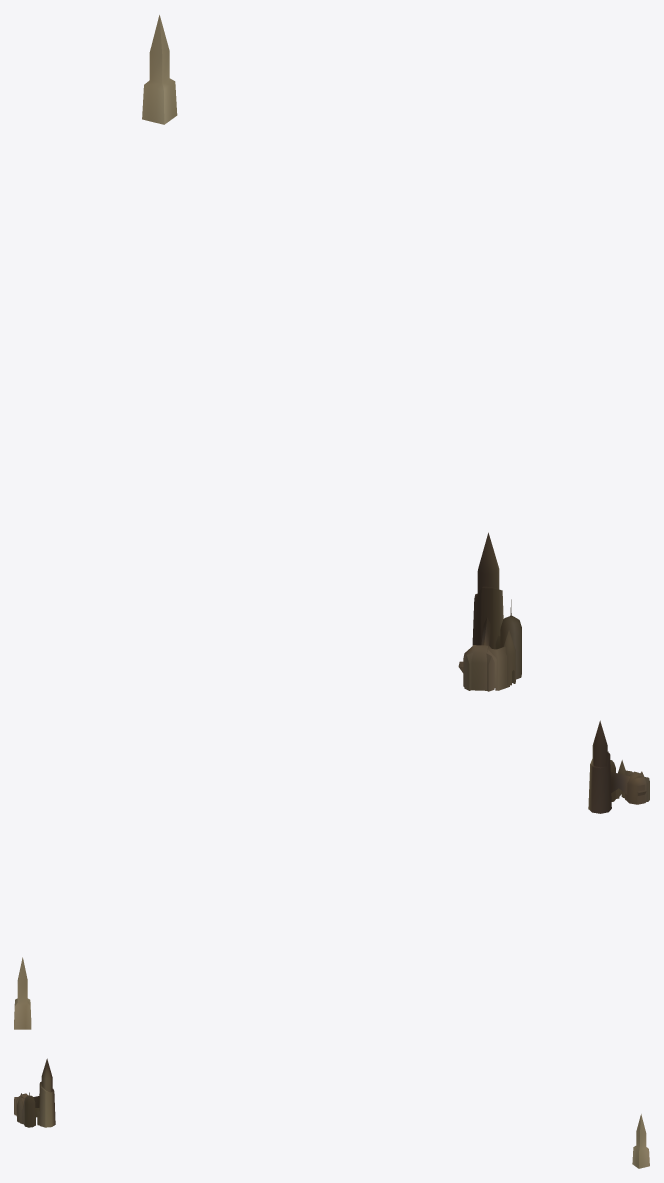
The model's file is tile_-3_1.glb.
3 views of the same model, one above another, from view 1: azimuth 30°, elevation 25°; view 2: azimuth 150°, elevation 25°; view 3: azimuth 270°, elevation 25° (orthographic). The views are drawn at different scales.
Parts seen in each view (by area): view 1: mesh[9].001; view 2: mesh[9].001; view 3: mesh[9].001.
Part boxes in pixels (<box>): mesh[9].001: <box>142,15,521,691</box>; mesh[9].001: <box>14,720,649,1029</box>; mesh[9].001: <box>14,1058,649,1168</box>.
Size of the model in its own units: 214 by 93.08 by 714.
1 material, 1 textured.
